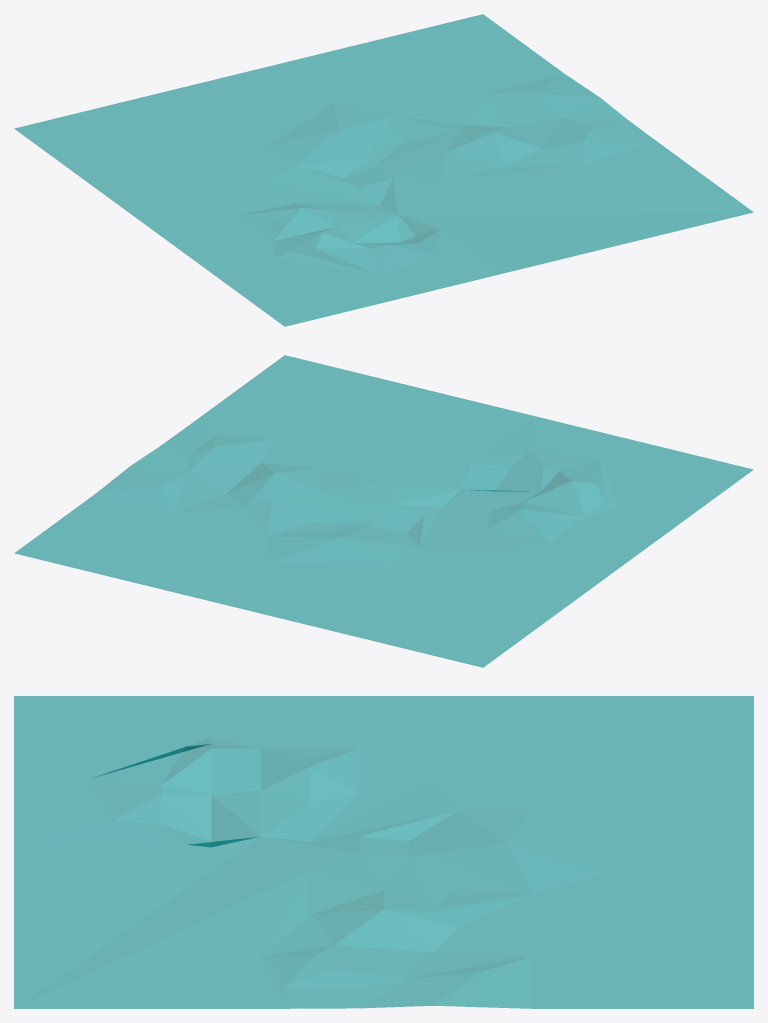
The model's file is water_test_for_indent.fbx.
3 renders of one model, top to bottom at view 1: azimuth 30°, elevation 25°; view 2: azimuth 150°, elevation 25°; view 3: azimuth 270°, elevation 25°, orthographic. The views are drawn at different scales.
Parts seen in each view (by area): view 1: water_test; view 2: water_test; view 3: water_test.
Boxes of the visible parts, x1=… form: water_test: x1=14, y1=14, x2=753, y2=326; water_test: x1=14, y1=355, x2=753, y2=667; water_test: x1=14, y1=696, x2=753, y2=1008.
Bounding box in the file's own units: 10.32 × 0.6173 × 10.32.
